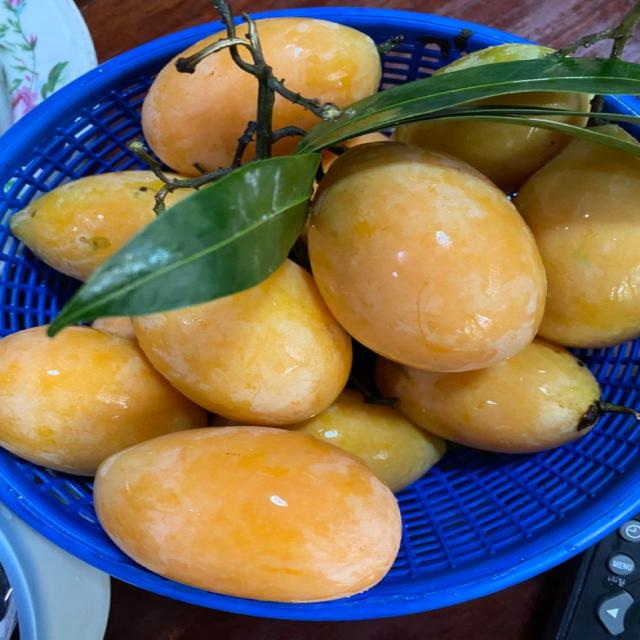mango: (308, 143, 545, 371), (94, 426, 401, 602), (132, 259, 350, 425), (0, 326, 207, 474), (375, 337, 639, 453), (513, 138, 639, 347), (10, 170, 160, 281), (142, 31, 257, 175), (284, 389, 444, 492), (392, 119, 571, 192), (257, 18, 380, 108), (434, 44, 554, 75), (477, 92, 592, 111), (275, 96, 316, 129), (270, 496, 287, 506)
